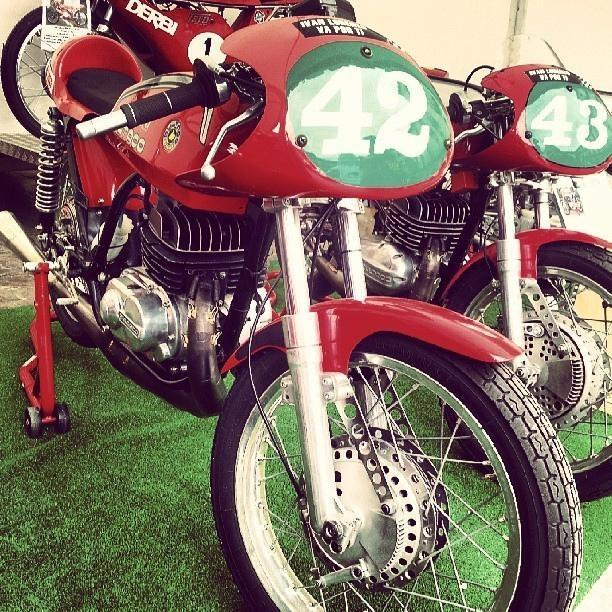motorcycle: (2, 13, 592, 602), (367, 61, 612, 487)
